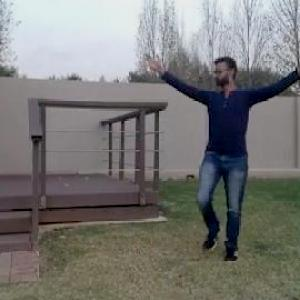takeoff: (139, 44, 299, 260)
